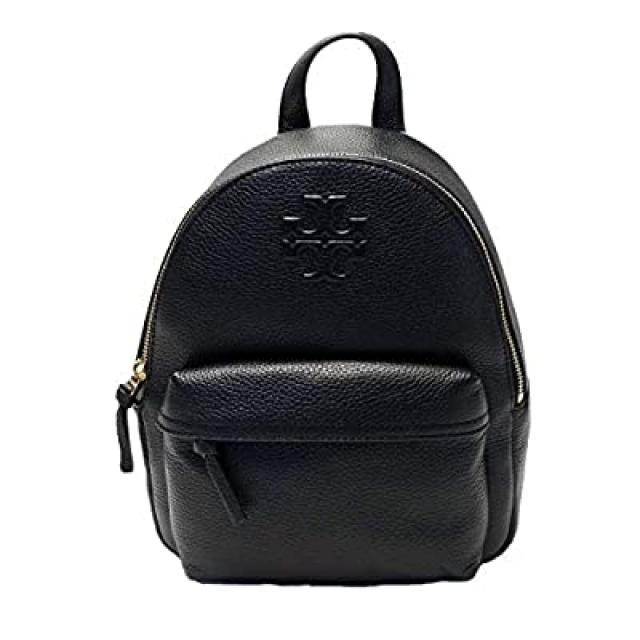Backpacks: (112, 130, 536, 588)
